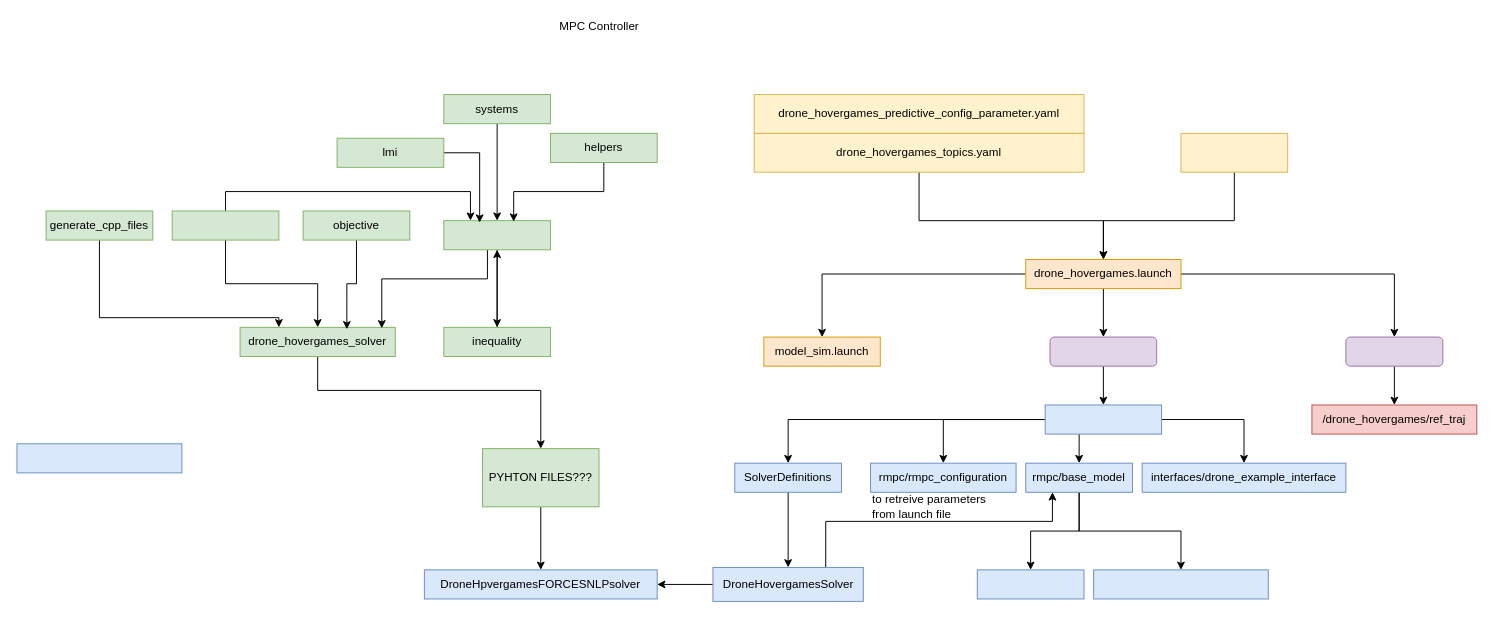
The diagram is 1494 pixels wide and 618 high, and some of its shapes have lost their labels. Each missing label, with the box of its shape:
dynamics: (171, 210, 279, 240)
PredictiveControllerConfig (???): (16, 443, 182, 473)
ref_traj: (1345, 336, 1443, 366)
rmpc: (1049, 336, 1157, 366)
rmpc/base_reference_trajectory: (1093, 569, 1268, 599)
rmpc/base_state: (976, 569, 1084, 599)
rmpc_controller: (1044, 404, 1162, 434)
rviz_config.rviz: (1180, 132, 1288, 172)
settings: (443, 220, 550, 250)
